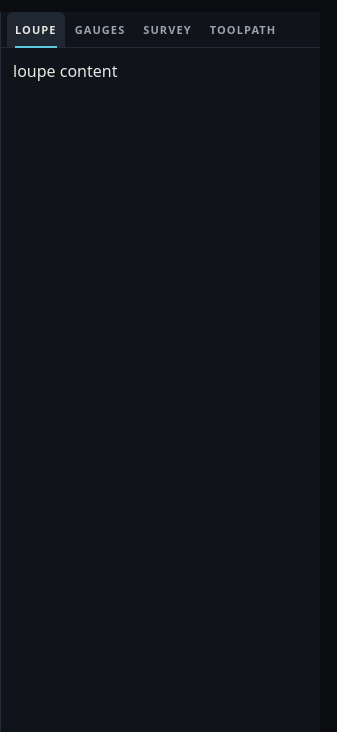
Test: PropertiesColumn › renders a Toolpath tab when toolpath content is provided, and switches to it on click
This screenshot has width=337, height=732.
Click the tab "Toolpath" at (243, 30), box [202,12,284,47]
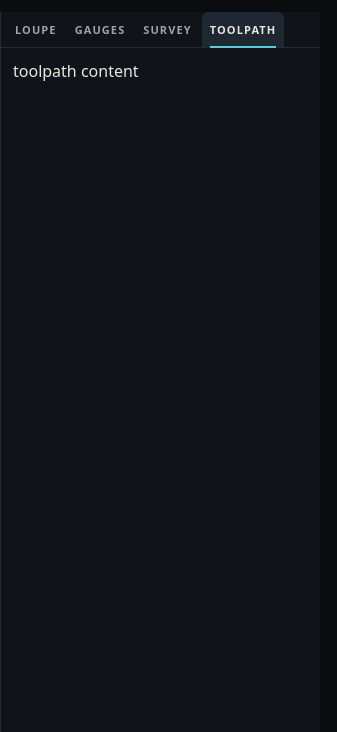
expect the text "toolpath content" is shown: met, box [13,60,139,82]
expect the text "loupe content" is gone: met
